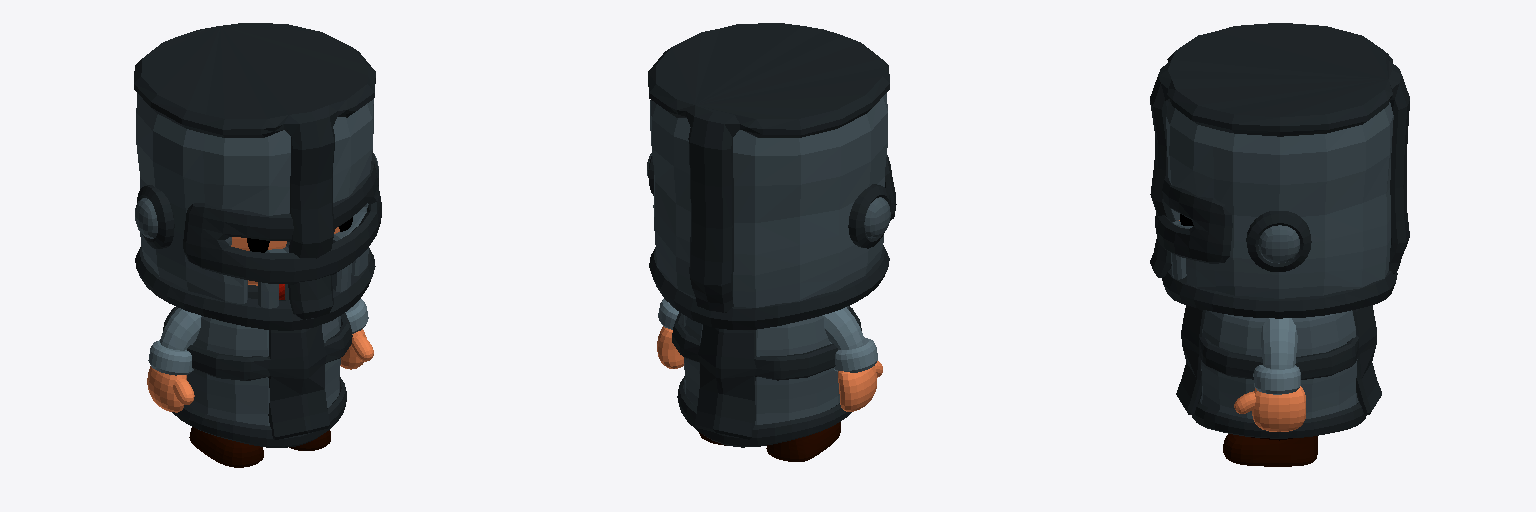
Rendered from Knight4final.obj.
3 views of the same model, side by side, from view 1: azimuth 30°, elevation 25°; view 2: azimuth 150°, elevation 25°; view 3: azimuth 270°, elevation 25° (orthographic).
Visible parts, largest first — view 1: Knight4_Head, Knight4_Body, Knight4_Right_Arm, Knight4_Right_Foot, Knight4_Left_Arm; view 2: Knight4_Head, Knight4_Body, Knight4_Right_Arm, Knight4_Right_Foot, Knight4_Left_Arm; view 3: Knight4_Head, Knight4_Body, Knight4_Left_Arm, Knight4_Left_Foot.
Boxes of the visible parts, x1,y1,x2,y2 form: Knight4_Head: [134, 23, 381, 330]; Knight4_Body: [163, 285, 352, 447]; Knight4_Right_Arm: [147, 308, 201, 412]; Knight4_Right_Foot: [189, 427, 263, 467]; Knight4_Left_Arm: [340, 299, 373, 369]; Knight4_Head: [647, 23, 896, 329]; Knight4_Body: [672, 306, 861, 447]; Knight4_Right_Arm: [823, 307, 882, 411]; Knight4_Right_Foot: [766, 422, 840, 461]; Knight4_Left_Arm: [657, 299, 683, 368]; Knight4_Head: [1150, 23, 1409, 318]; Knight4_Body: [1176, 305, 1381, 440]; Knight4_Left_Arm: [1234, 318, 1305, 431]; Knight4_Left_Foot: [1223, 434, 1317, 466].
Size of the model in its own units: 1.89 by 2.87 by 1.82.